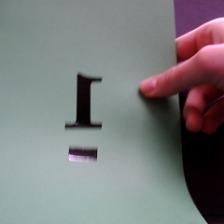green1: (52, 64, 115, 170)
